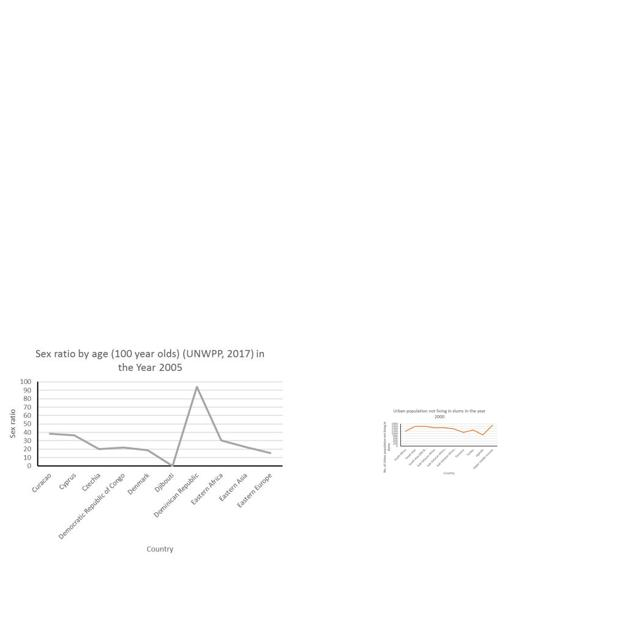Graph: (4, 342, 286, 558), (381, 408, 499, 476)
